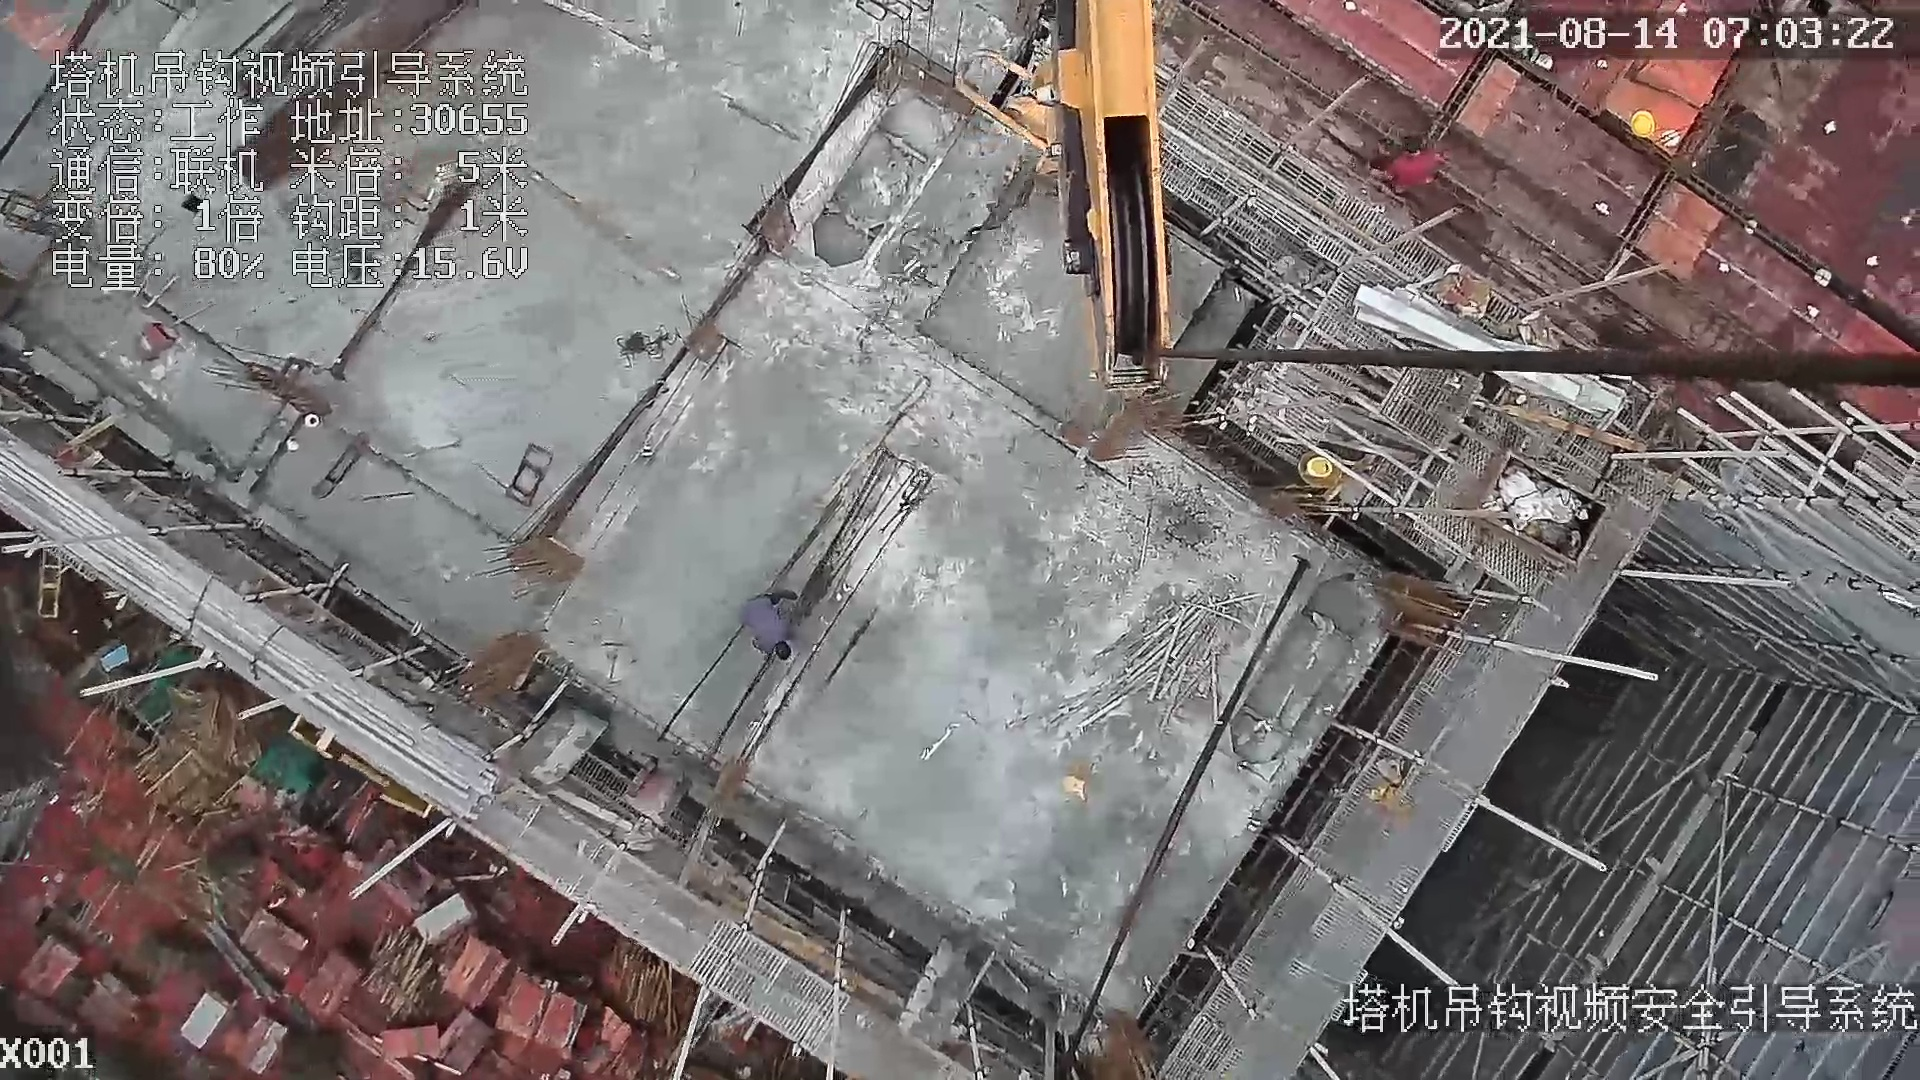helmet: (1628, 108, 1656, 138)
hook: (960, 1, 1182, 394)
person: (737, 586, 796, 662), (1388, 133, 1443, 198)
